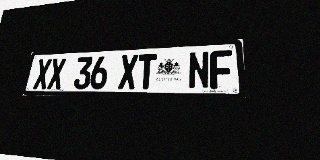3: (73, 57, 93, 89)
6: (89, 56, 109, 89)
F: (210, 50, 233, 89)
N: (188, 51, 210, 89)
T: (136, 53, 157, 89)
X: (118, 54, 138, 89), (47, 58, 66, 89), (33, 59, 52, 89)
